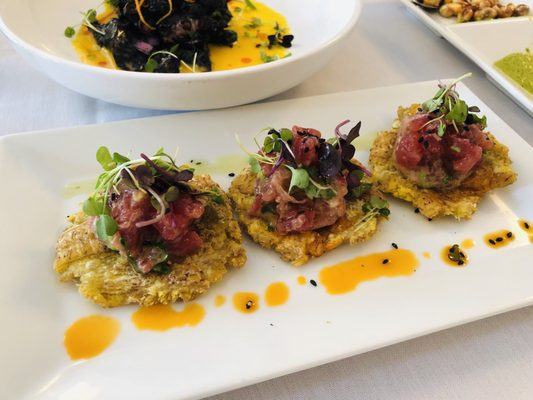sushi: (0, 0, 365, 115)
